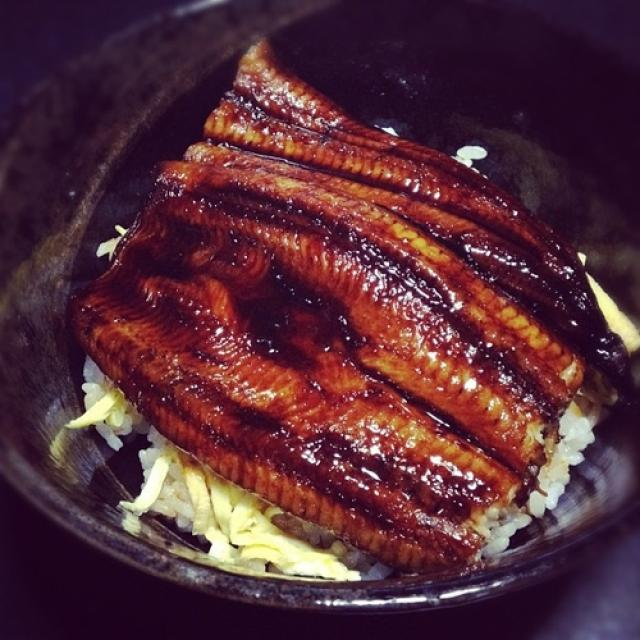牛肉菜式: (41, 109, 580, 568)
蔬菜料理: (260, 512, 383, 640), (372, 513, 466, 640)
